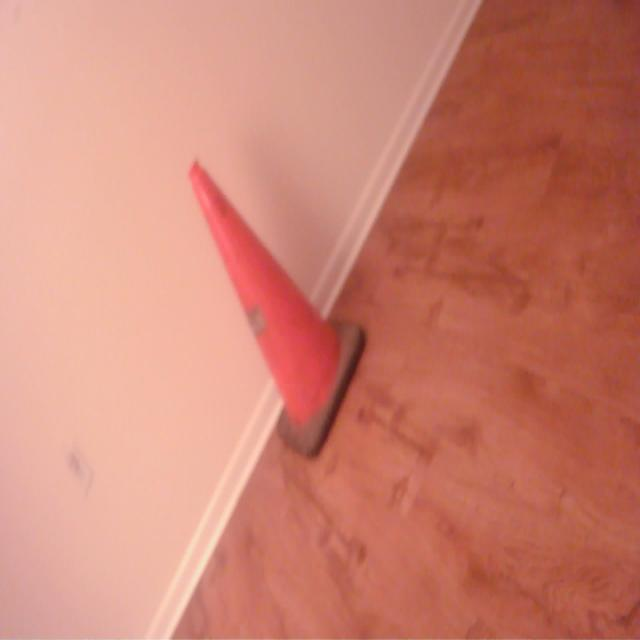traffic cone: (186, 154, 371, 463)
